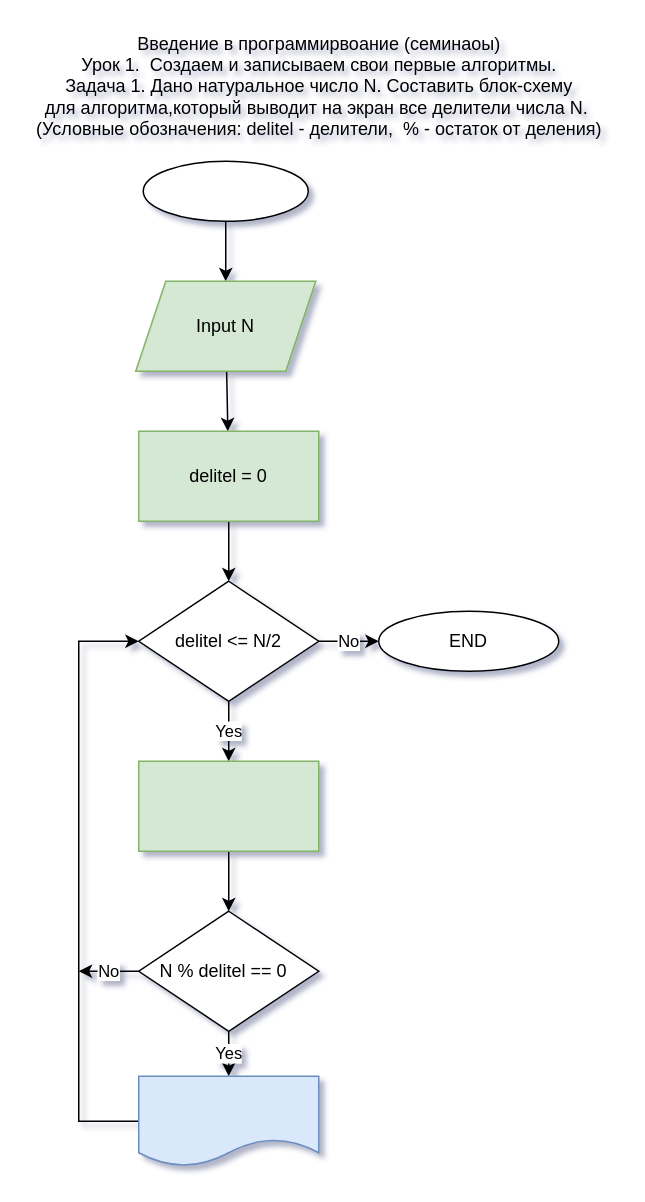
This 645x1202 diagram has some shape labels left out. Here are the shapes that lost their labels. From the top down, the centre of each, then its label:
point (225, 190): START
point (228, 805): delitel = delitel + 1
point (228, 1120): print ("Делитель числа N равен ", delitel)
